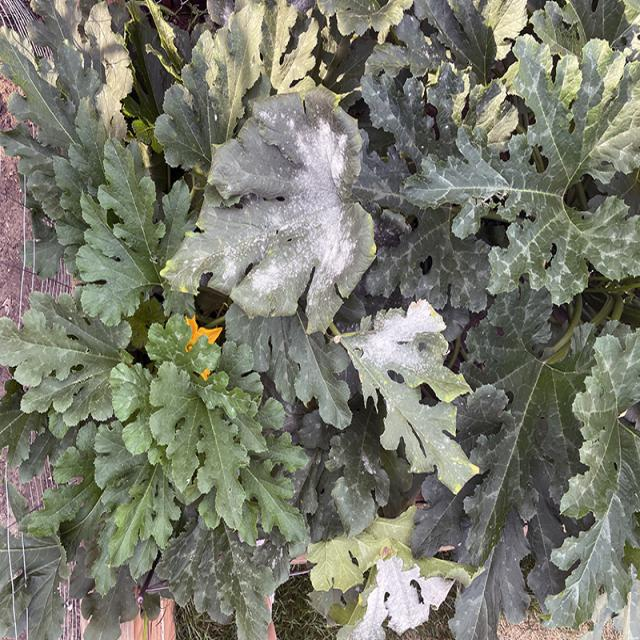Powdery Mildew: (159, 85, 378, 335), (314, 506, 467, 636), (363, 301, 477, 400)
